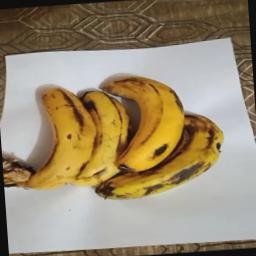Banana Unripe: (98, 70, 190, 178), (18, 79, 96, 194), (76, 77, 136, 191)
